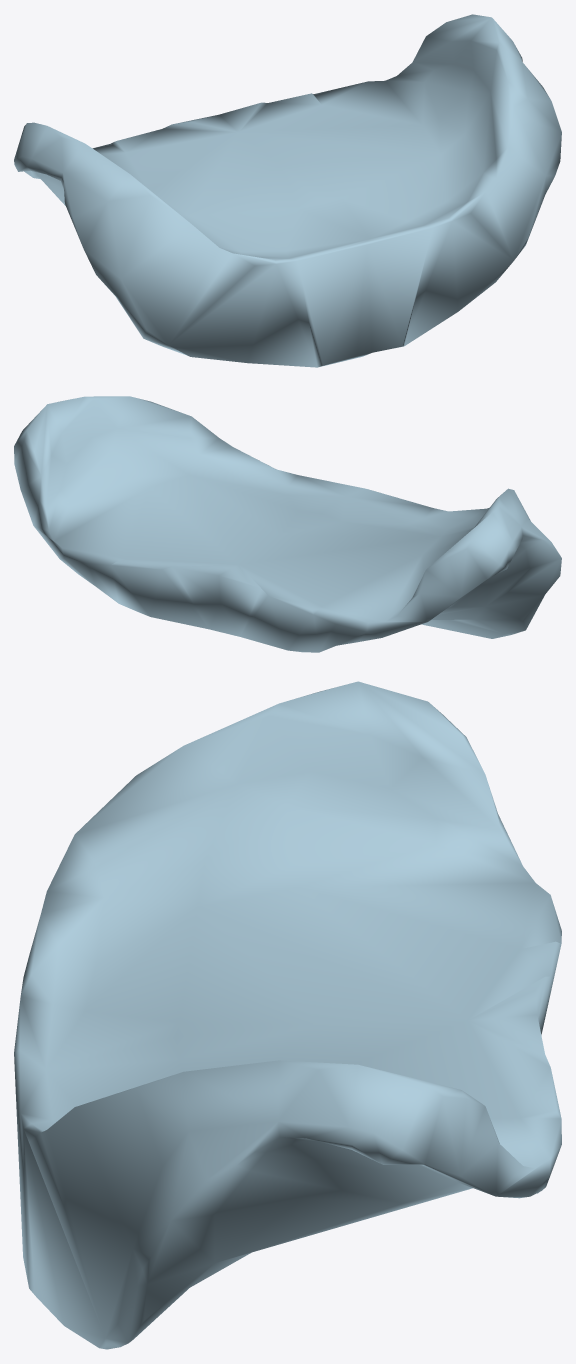
The model's file is articulacoes-intervertebral-disc-c4-c5.glb.
3 renders of one model, top to bottom at view 1: azimuth 30°, elevation 25°; view 2: azimuth 150°, elevation 25°; view 3: azimuth 270°, elevation 25°, orthographic. The views are drawn at different scales.
Visible parts, largest first — view 1: Intervertebral disc C4-C5; view 2: Intervertebral disc C4-C5; view 3: Intervertebral disc C4-C5.
Part boxes in pixels (box(x1,y1,x2,y2)): Intervertebral disc C4-C5: box(14, 14, 561, 367); Intervertebral disc C4-C5: box(14, 396, 561, 652); Intervertebral disc C4-C5: box(14, 681, 561, 1349).
Size of the model in its own units: 0.0272 by 0.0116 by 0.015.
